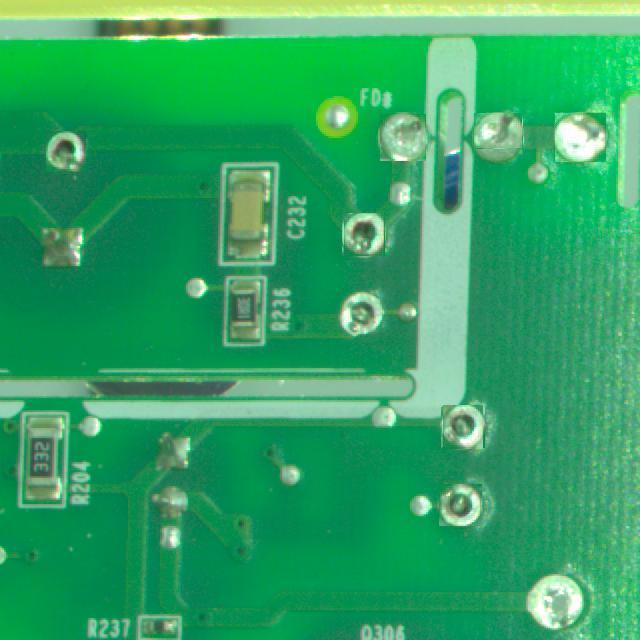oppostie_direction: (554, 112, 606, 162), (379, 114, 426, 161), (440, 484, 481, 526), (343, 214, 384, 256), (443, 406, 483, 448), (46, 131, 86, 172), (475, 114, 521, 147)
